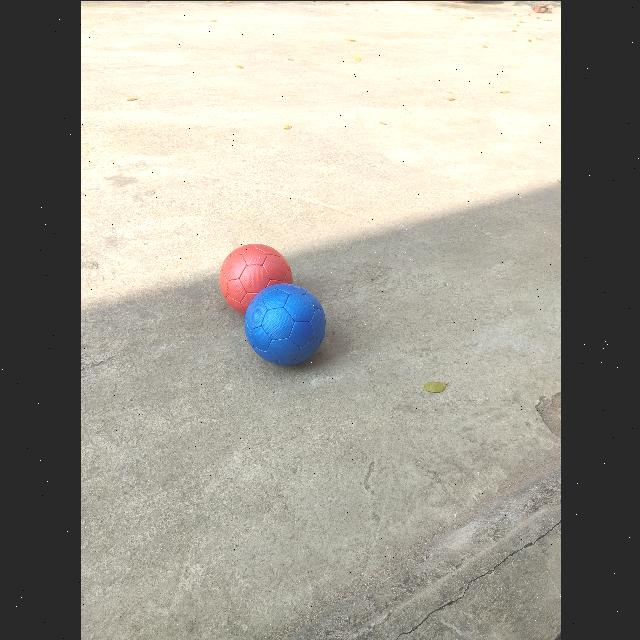B: (244, 283, 325, 365)
R: (219, 243, 291, 313)
